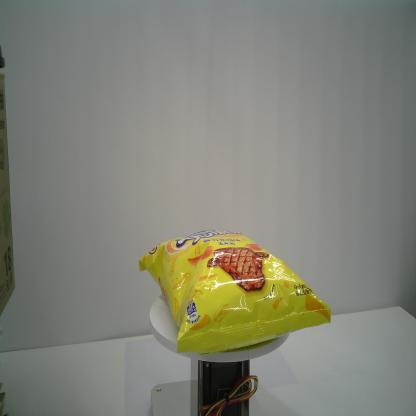Puffed Food: (139, 228, 332, 355)
